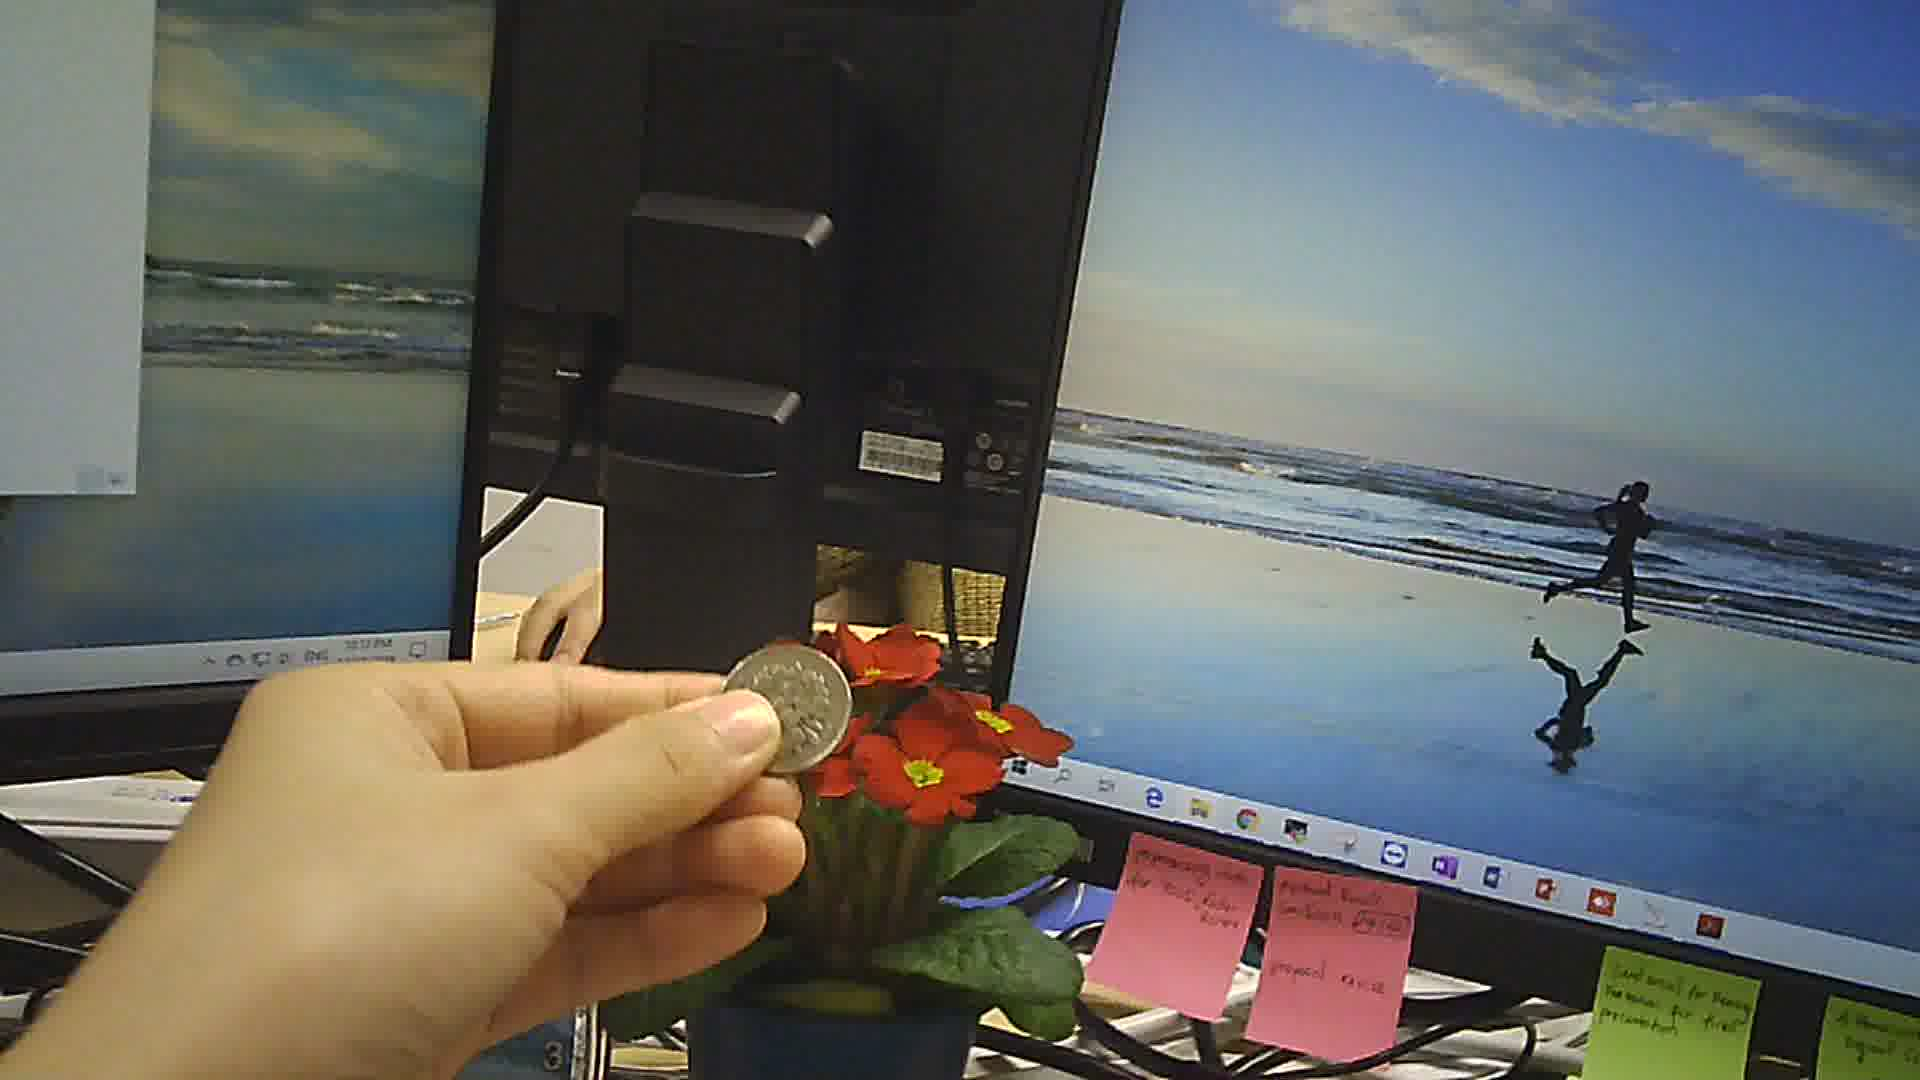100 Yen: (705, 638, 872, 794)
